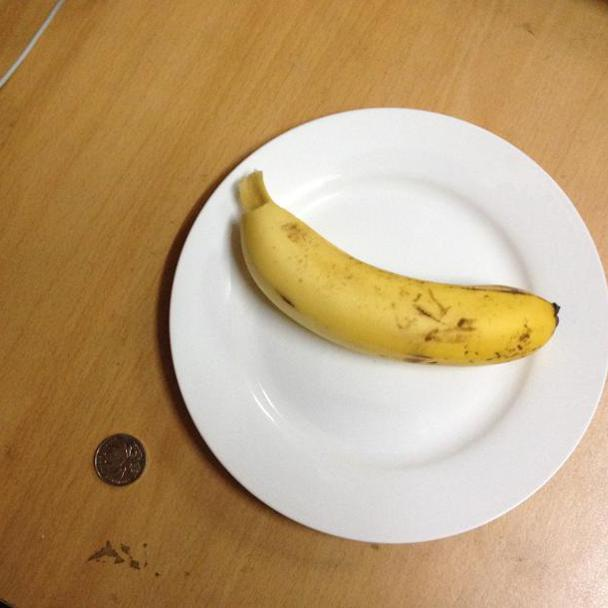banana: (216, 166, 570, 384)
